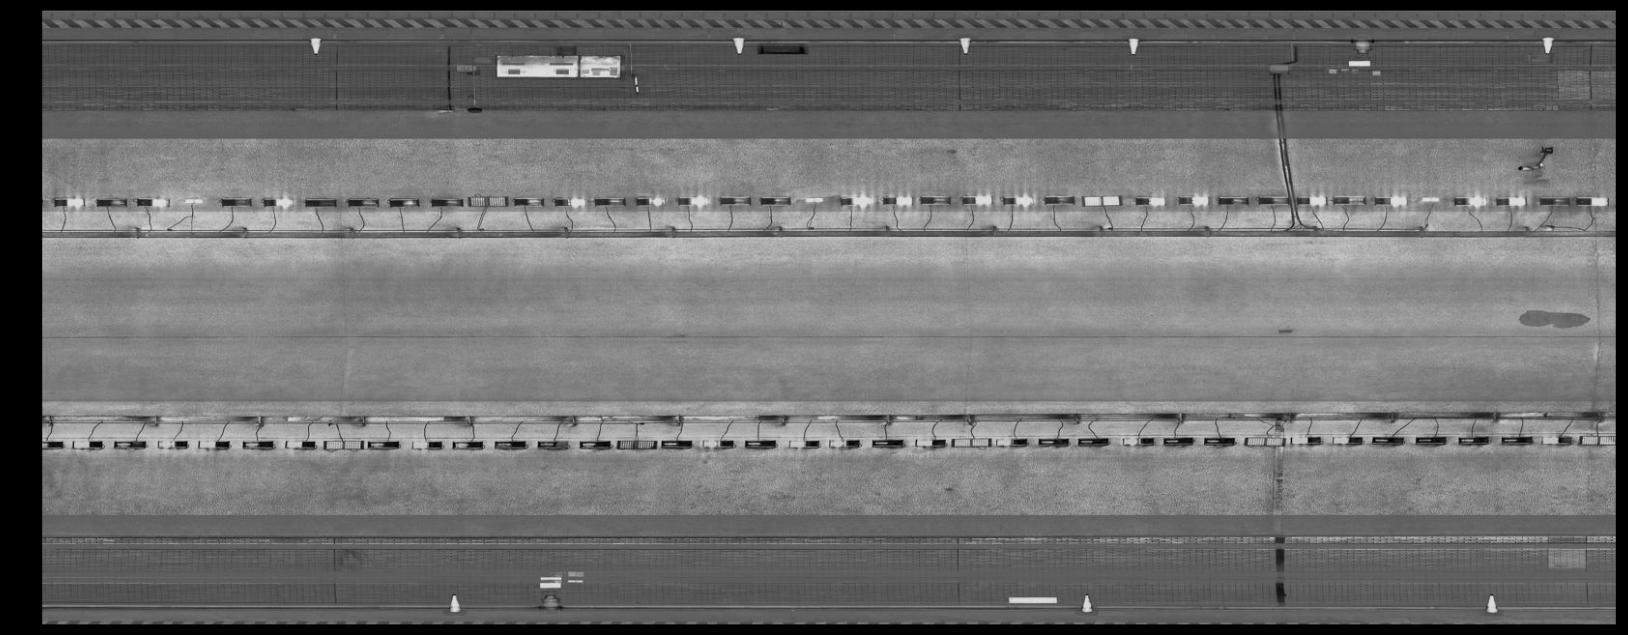light: (1240, 432, 1288, 449), (1078, 191, 1124, 209), (613, 435, 661, 451), (321, 435, 367, 452), (948, 434, 994, 450), (465, 192, 510, 209), (836, 190, 875, 209), (1576, 431, 1615, 449), (279, 435, 320, 452), (1133, 191, 1172, 209), (491, 435, 530, 452), (409, 435, 447, 452), (109, 436, 150, 452), (1175, 191, 1213, 209), (998, 190, 1035, 208), (534, 436, 571, 453), (1291, 190, 1330, 206), (868, 434, 907, 450), (66, 436, 106, 452), (698, 435, 739, 450), (916, 191, 954, 208), (910, 433, 948, 449), (194, 435, 233, 451), (1158, 433, 1198, 448), (1071, 433, 1112, 448), (825, 434, 863, 450), (1040, 191, 1077, 208), (426, 194, 467, 209), (132, 193, 173, 208), (51, 193, 87, 210), (1537, 432, 1578, 446), (365, 436, 402, 452), (240, 436, 276, 452), (1451, 193, 1490, 209), (1199, 433, 1238, 448), (1118, 433, 1157, 448), (154, 436, 192, 451), (1330, 191, 1371, 205), (384, 194, 424, 209), (342, 194, 381, 209), (259, 194, 298, 209), (785, 436, 824, 450), (451, 436, 485, 452), (879, 192, 916, 208), (1410, 433, 1451, 446), (1371, 192, 1409, 206), (301, 194, 340, 209), (218, 194, 256, 209), (573, 437, 614, 450), (757, 193, 794, 208), (674, 193, 711, 208), (510, 193, 547, 208), (1369, 433, 1407, 447), (1328, 433, 1365, 447), (1034, 434, 1071, 448), (993, 434, 1030, 448), (741, 436, 779, 450), (657, 436, 695, 450), (959, 192, 994, 208), (1536, 194, 1575, 208), (1497, 433, 1537, 446), (716, 193, 753, 208), (551, 194, 588, 209), (1573, 194, 1611, 208), (1492, 194, 1530, 208), (1214, 193, 1252, 206), (1455, 433, 1492, 446), (633, 193, 668, 208), (591, 194, 627, 208), (92, 195, 129, 209), (1288, 433, 1324, 446), (1253, 194, 1291, 206), (42, 435, 65, 449), (180, 195, 206, 205), (1418, 193, 1444, 201), (801, 195, 826, 203)
